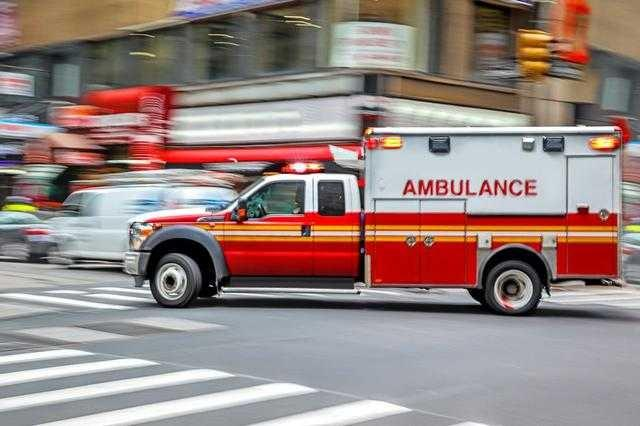car: (122, 120, 633, 315)
